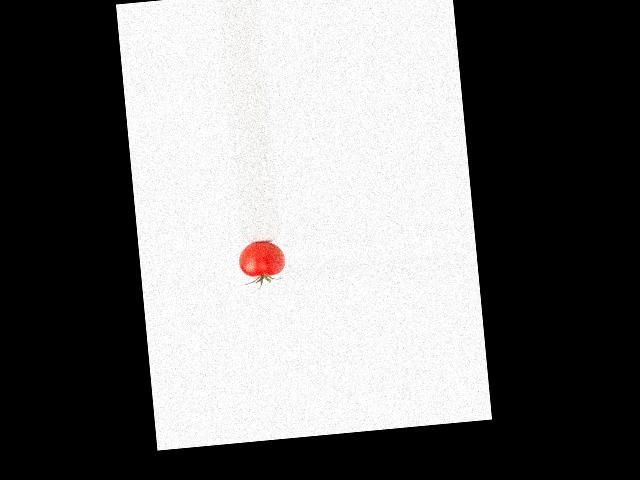tomato: (237, 240, 285, 278)
